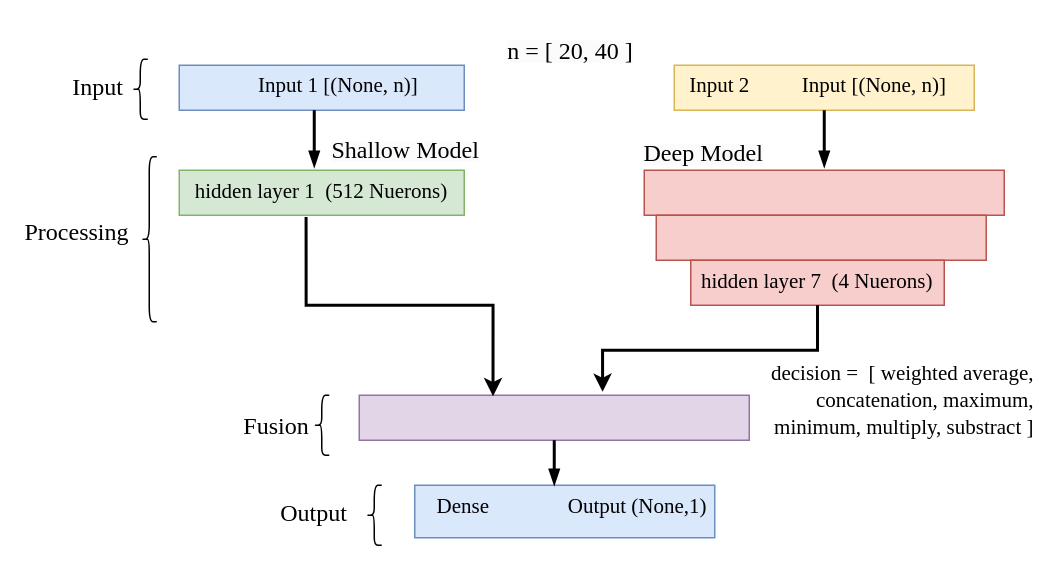
Some shapes in this 1064 by 572 pixel diagram are drawn without their labels. Here are the shapes that lost their labels. From the top down, the centre of each, then its label:
At point (823, 192): "hidden layer 1 (256 Nuerons)".
At point (820, 237): "hidden layer 2 - 6 (128 - 8 Nuerons)".
At point (553, 417): "decision Input [(None, 1), (None, 1)]".
